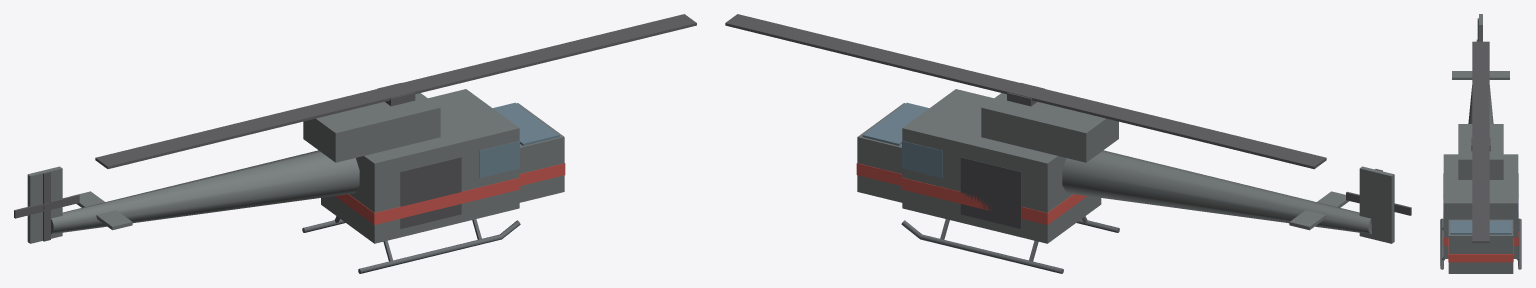
Rendered from helicopter_merc.glb.
3 views of the same model, side by side, from view 1: azimuth 30°, elevation 25°; view 2: azimuth 150°, elevation 25°; view 3: azimuth 270°, elevation 25° (orthographic). The views are drawn at different scales.
Size of the model in its own units: 16.8 by 3.6 by 2.52.
